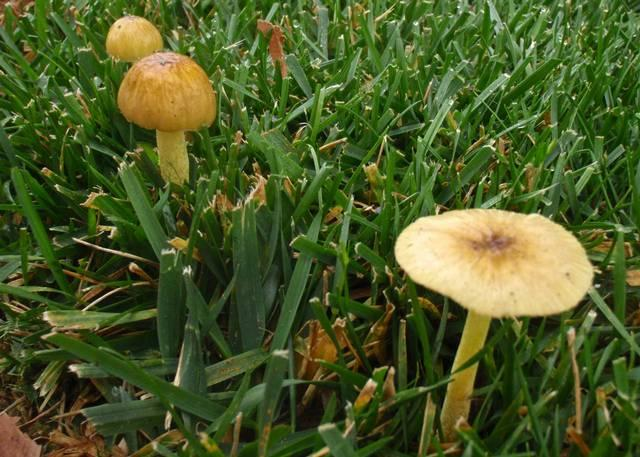edible_mushroom: (393, 206, 594, 446), (116, 50, 216, 188), (104, 13, 163, 63)
